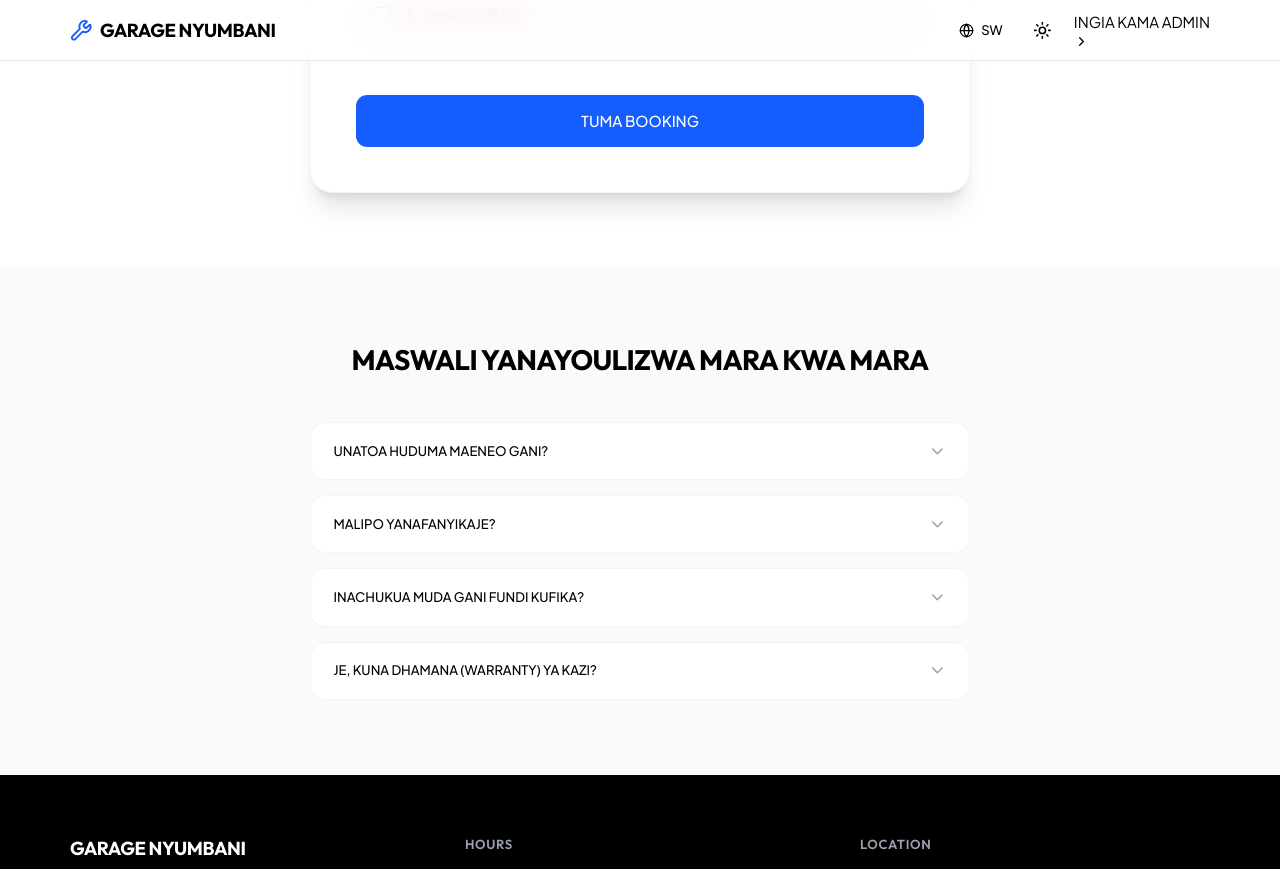
CustomerLanding — Phase 2 › FAQ Section › shows answer when FAQ item is clicked
This screenshot has width=1280, height=869.
(page scrolled)
Click the button "UNATOA HUDUMA MAENEO GANI?" at (441, 450), box [311,423,969,479]
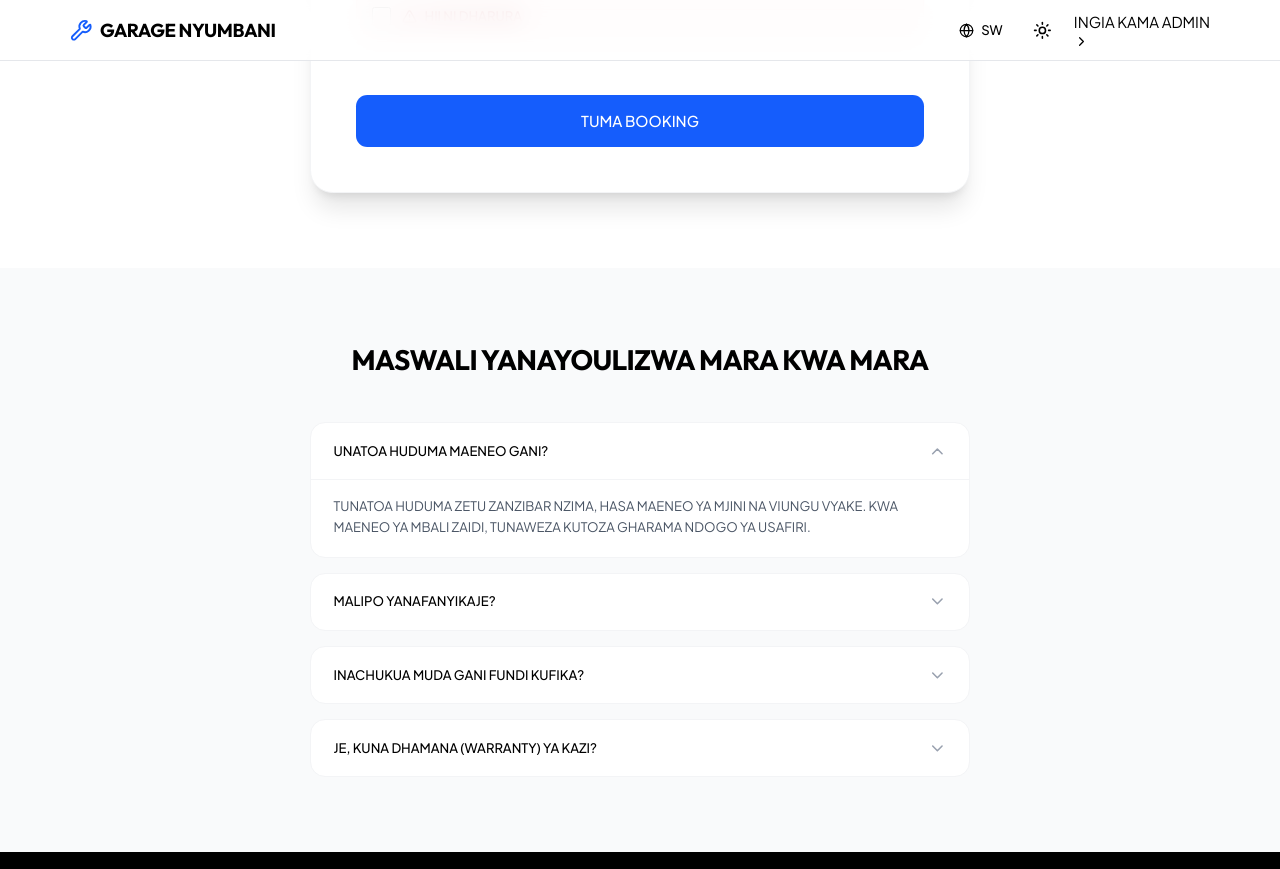
Now the text "TUNATOA HUDUMA ZETU ZANZIBAR NZIMA, HASA MAENEO YA MJINI NA VIUNGU VYAKE. KWA MAENEO YA MBALI ZAIDI, TUNAWEZA KUTOZA GHA" is shown, box [334,497,898,535]
